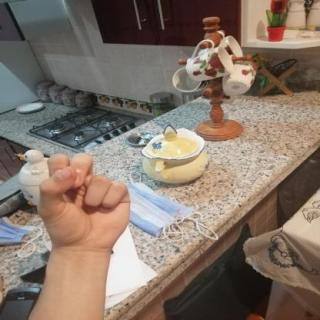QAAF: (25, 145, 144, 260)
